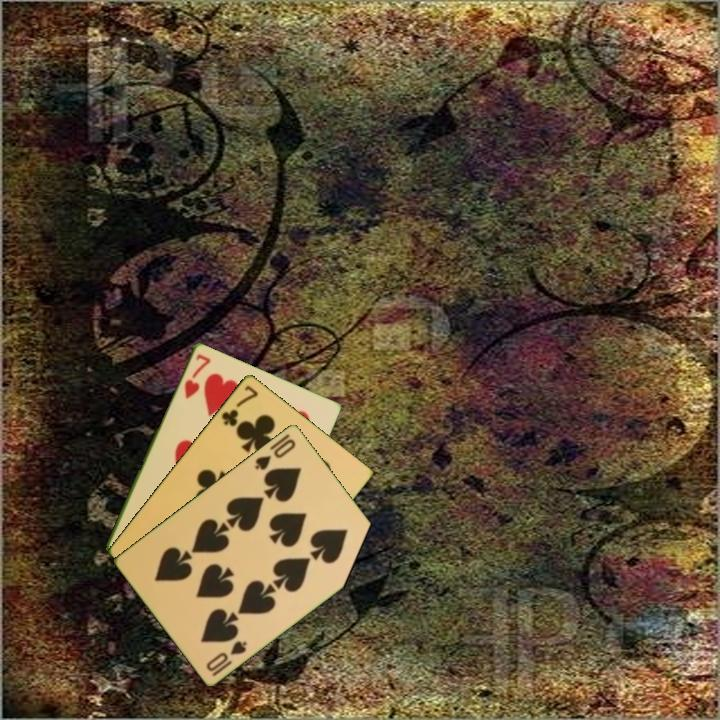10s: (203, 637, 250, 679), (251, 435, 299, 473)
7c: (218, 381, 261, 429)
7h: (180, 350, 213, 401)
